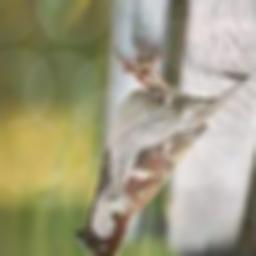Sparrow: (75, 46, 250, 256)
